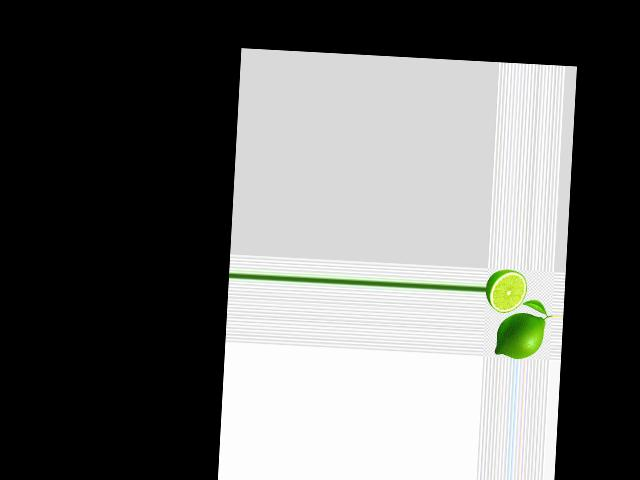lemon: (492, 309, 547, 358)
